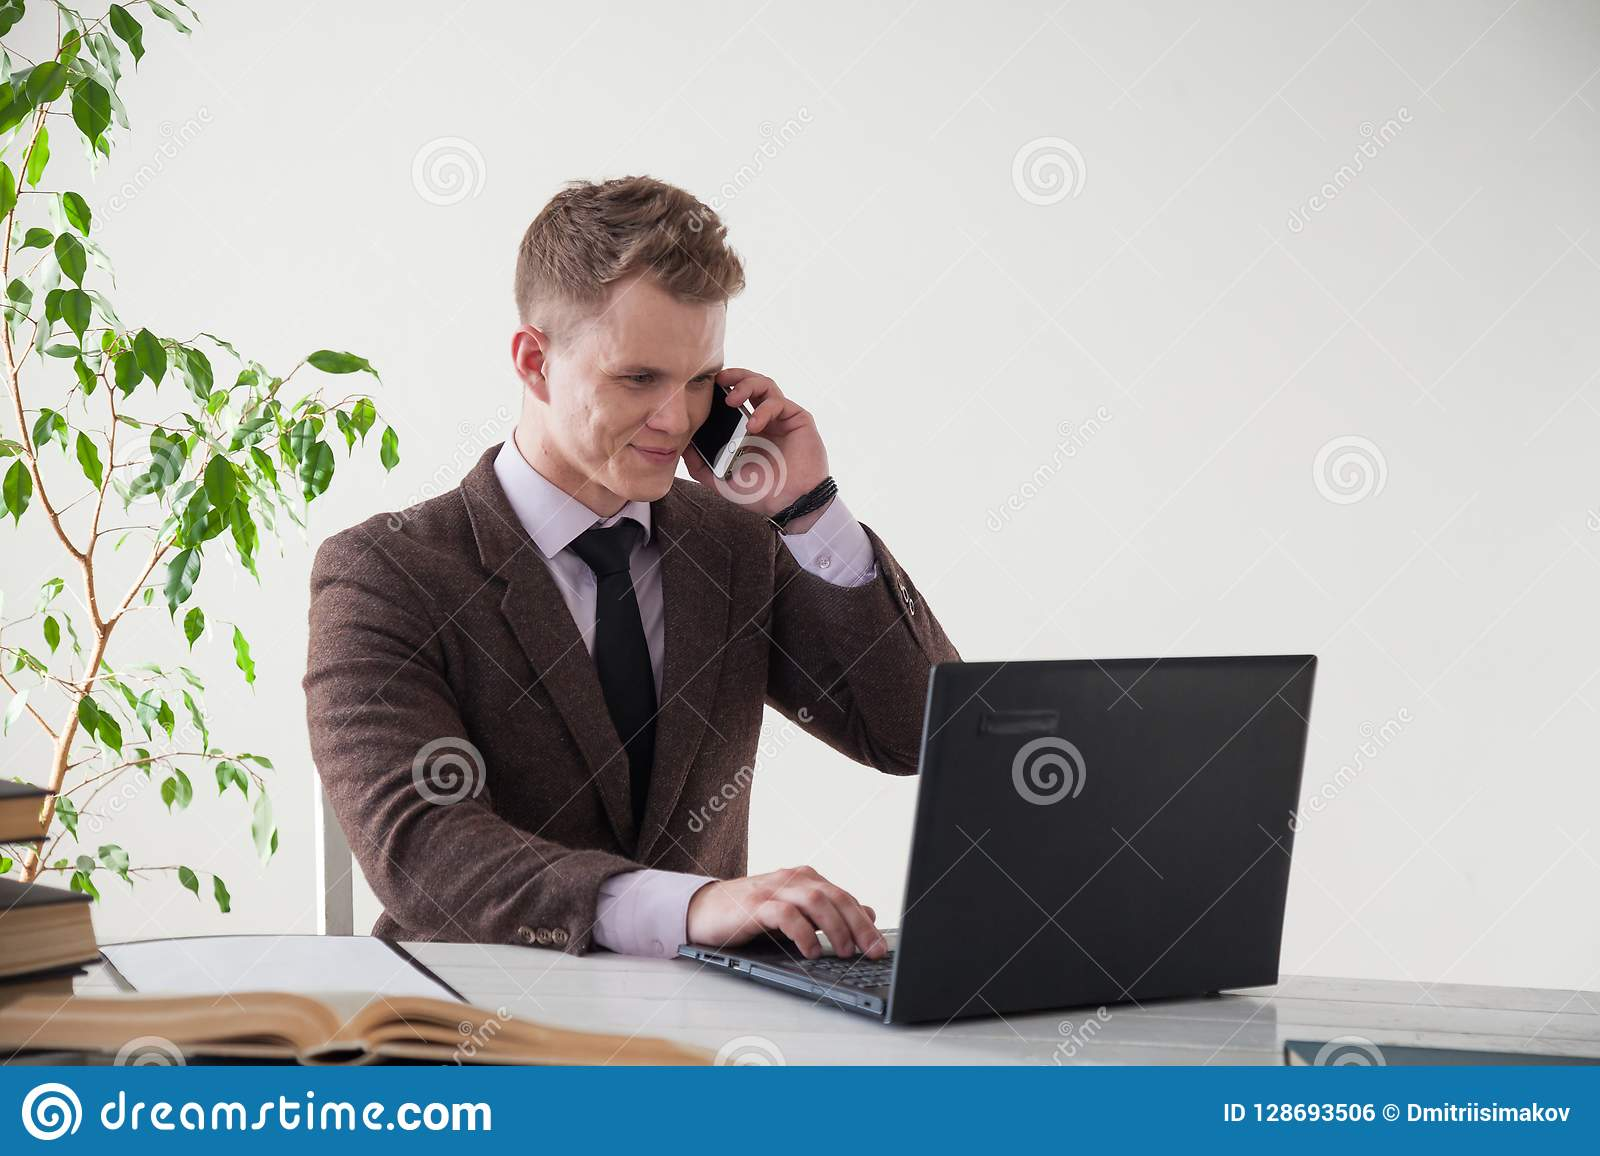phone: (689, 387, 766, 483)
talk: (588, 339, 832, 530)
